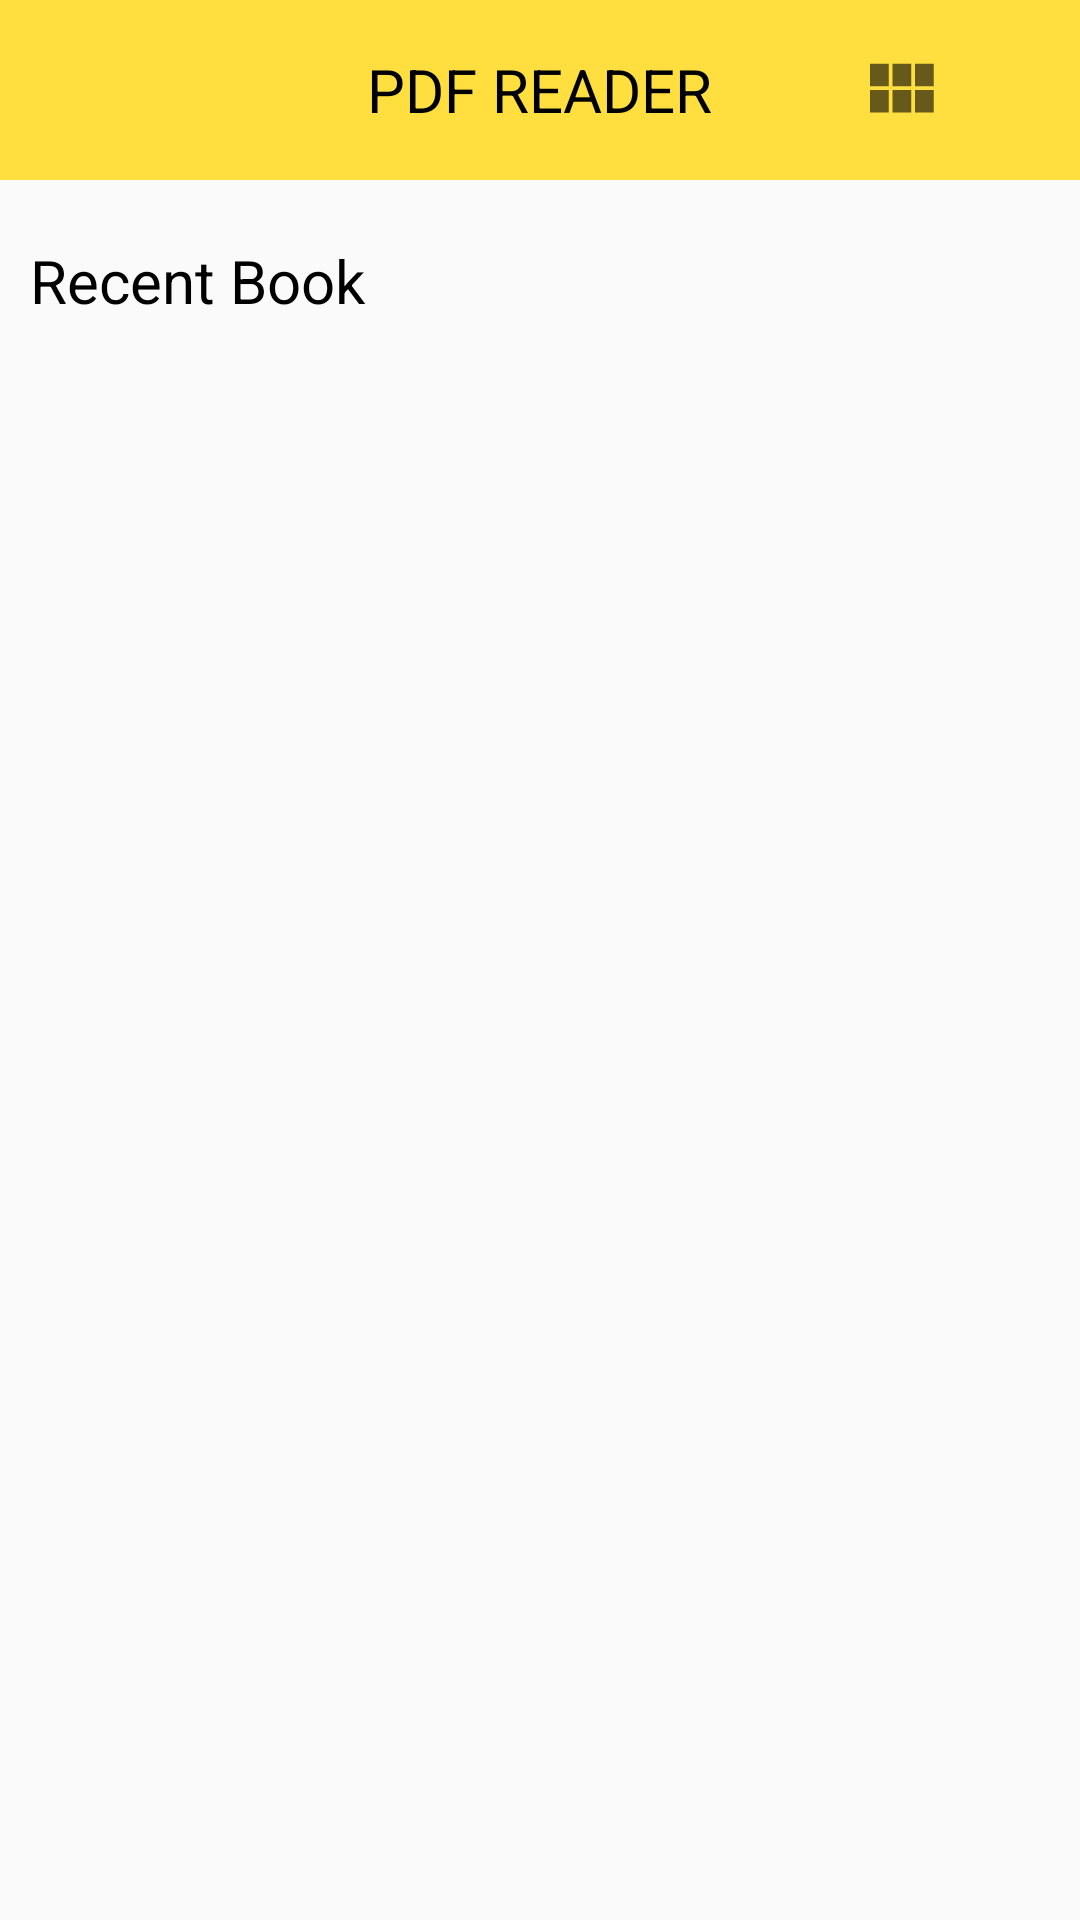

Icons on this 1080x1920 Android screen, each with its box as (x1, y1, x2, y2):
view module: (870, 63, 934, 113)
